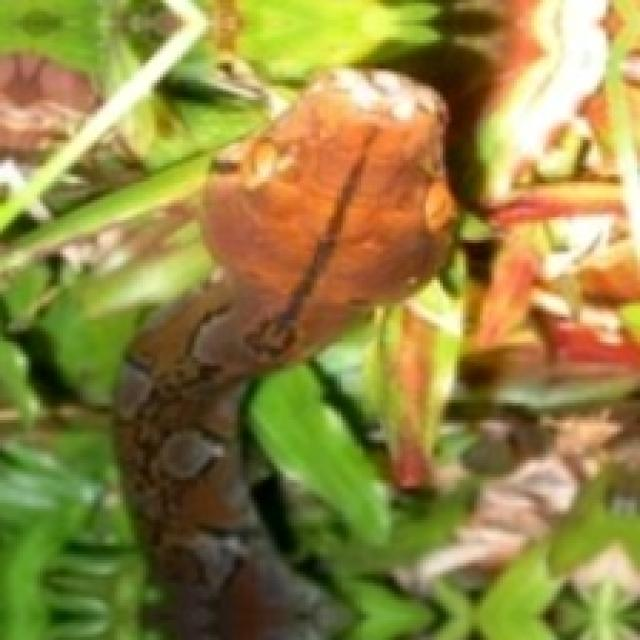reticulated python: (117, 69, 454, 637)
